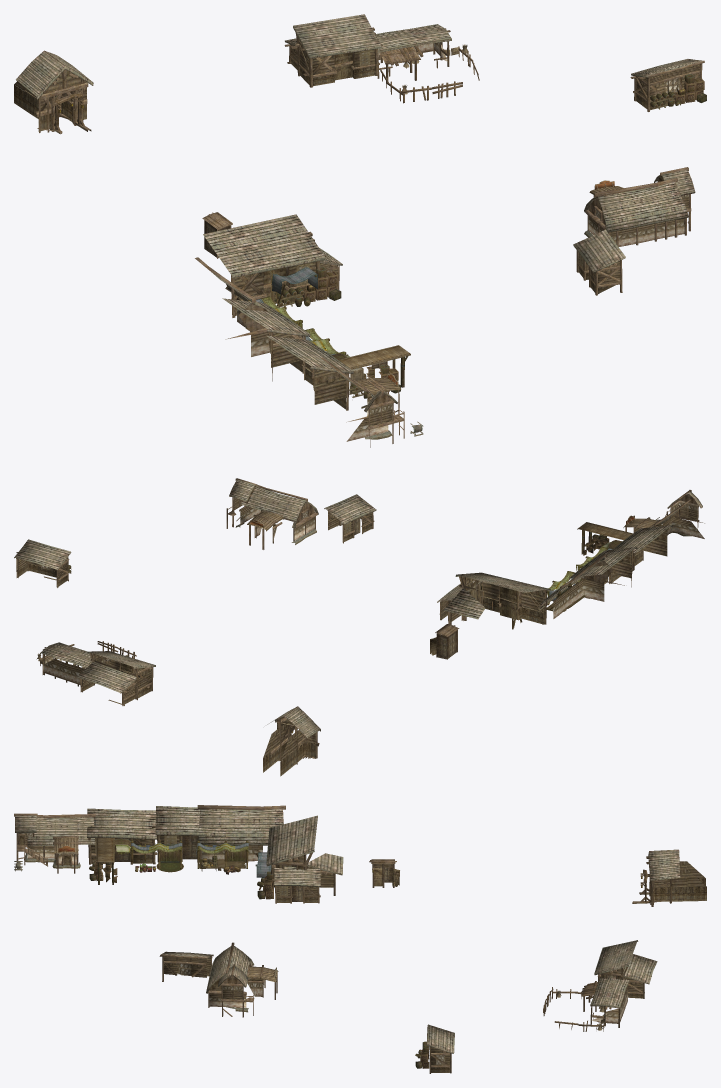
File: S_Build_West085_A.FBX
3 views of the same model, one above another, from view 1: azimuth 30°, elevation 25°; view 2: azimuth 150°, elevation 25°; view 3: azimuth 270°, elevation 25° (orthographic). The views are drawn at different scales.
Visible parts, largest first — view 1: S_Build_West085_001, S_Build_West086_003, S_Build_West085_002, S_Build_West087_001, S_Build_West088_001, S_Build_West100_001, S_Build_West086_001, S_Build_West100_004, S_Build_West100_005, S_Build_West100_002, S_Build_West086_002, S_Build_West037_002 (+3 smaller); view 2: S_Build_West085_001, S_Build_West086_003, S_Build_West085_002, S_Build_West087_001, S_Build_West088_001, S_Build_West100_005, S_Build_West086_001, S_Build_West086_002, S_Build_West100_004, S_Build_West100_001, S_Build_West100_002, S_Build_West090_001 (+1 smaller); view 3: S_Build_West086_001, S_Build_West086_002, S_Build_West086_003, S_Build_West085_001, S_Build_West100_001, S_Build_West087_001, S_Build_West100_002, S_Build_West088_001, S_Build_West085_002, S_Build_West100_003, S_Build_West100_004, S_Build_West100_005 (+4 smaller).
Part boxes in pixels (box(x1,y1,x2,y2)): S_Build_West085_001: box(203, 214, 326, 317); S_Build_West086_003: box(584, 167, 695, 246); S_Build_West085_002: box(284, 14, 382, 87); S_Build_West087_001: box(14, 50, 93, 134); S_Build_West088_001: box(376, 24, 479, 103); S_Build_West100_001: box(266, 335, 353, 410); S_Build_West086_001: box(321, 357, 404, 447); S_Build_West100_004: box(573, 229, 625, 295); S_Build_West100_005: box(630, 59, 704, 111); S_Build_West100_002: box(222, 298, 310, 381); S_Build_West086_002: box(195, 257, 271, 356); S_Build_West037_002: box(274, 266, 341, 307); S_Build_West085_001: box(443, 572, 550, 624); S_Build_West086_003: box(226, 478, 318, 549); S_Build_West085_002: box(76, 651, 155, 705); S_Build_West087_001: box(263, 706, 320, 776); S_Build_West088_001: box(36, 641, 136, 686); S_Build_West100_005: box(14, 539, 71, 587); S_Build_West086_001: box(623, 490, 704, 538); S_Build_West086_002: box(538, 554, 624, 618); S_Build_West100_004: box(324, 494, 376, 543); S_Build_West100_001: box(609, 525, 672, 583); S_Build_West100_002: box(569, 547, 637, 598); S_Build_West090_001: box(430, 623, 459, 659); S_Build_West086_001: box(14, 813, 95, 873); S_Build_West086_002: box(197, 805, 285, 861); S_Build_West086_003: box(206, 942, 278, 1017); S_Build_West085_001: box(266, 815, 343, 895); S_Build_West100_001: box(87, 808, 157, 864); S_Build_West087_001: box(632, 849, 706, 906); S_Build_West100_002: box(152, 806, 225, 861); S_Build_West088_001: box(543, 977, 629, 1031); S_Build_West085_002: box(594, 940, 657, 998); S_Build_West100_003: box(271, 866, 320, 903); S_Build_West100_004: box(159, 951, 213, 981); S_Build_West100_005: box(426, 1024, 454, 1073).
Size of the model in its own units: 10574 by 1285 by 13067.
